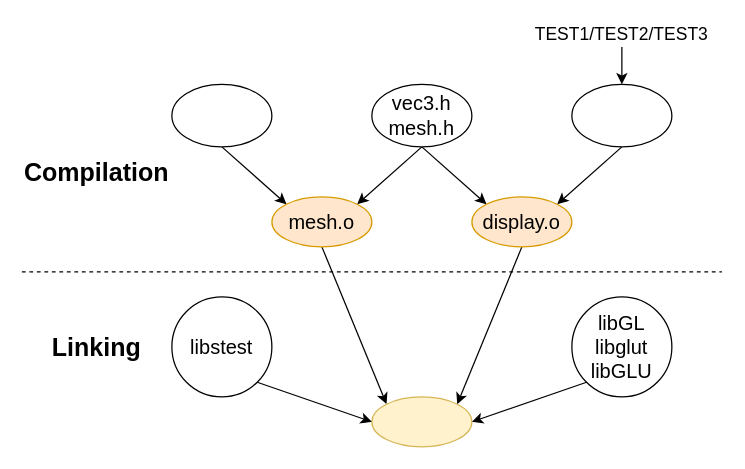
This 745x469 diagram has some shape labels left out. The shapes that lost their labels are listed below. From the top down, each one's centre as x and y in pixels, then its label:
At point 221,115: "mesh.cpp".
At point 621,115: "display.cpp".
At point 421,421: "display".
